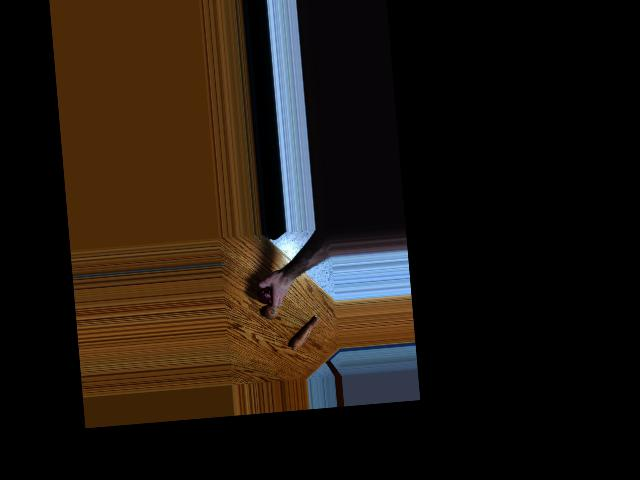onion: (262, 303, 279, 320)
